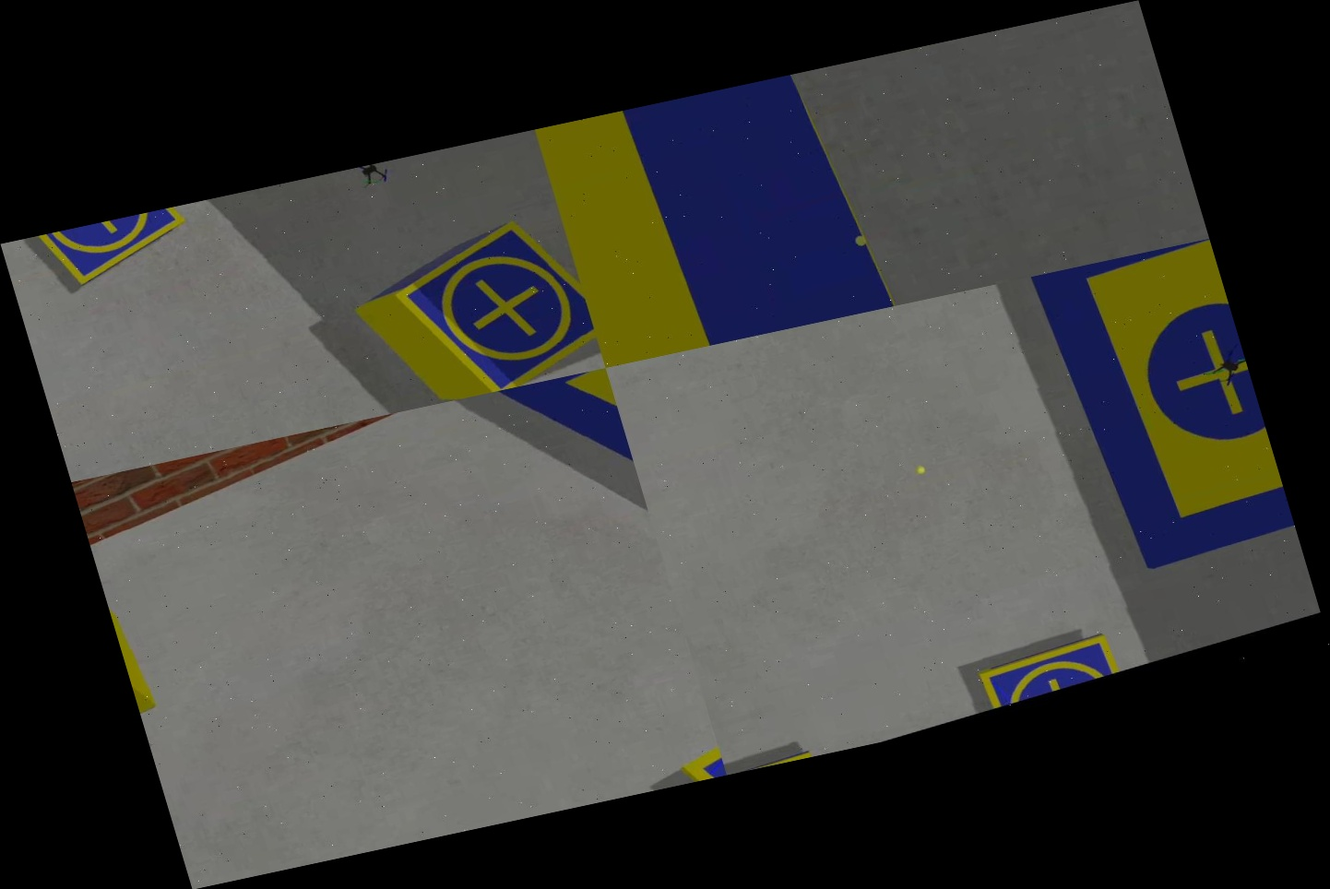large_base: (535, 66, 898, 368), (1023, 239, 1298, 579), (493, 368, 684, 656)
small_base: (371, 207, 606, 408), (17, 205, 201, 299), (975, 632, 1125, 712)
